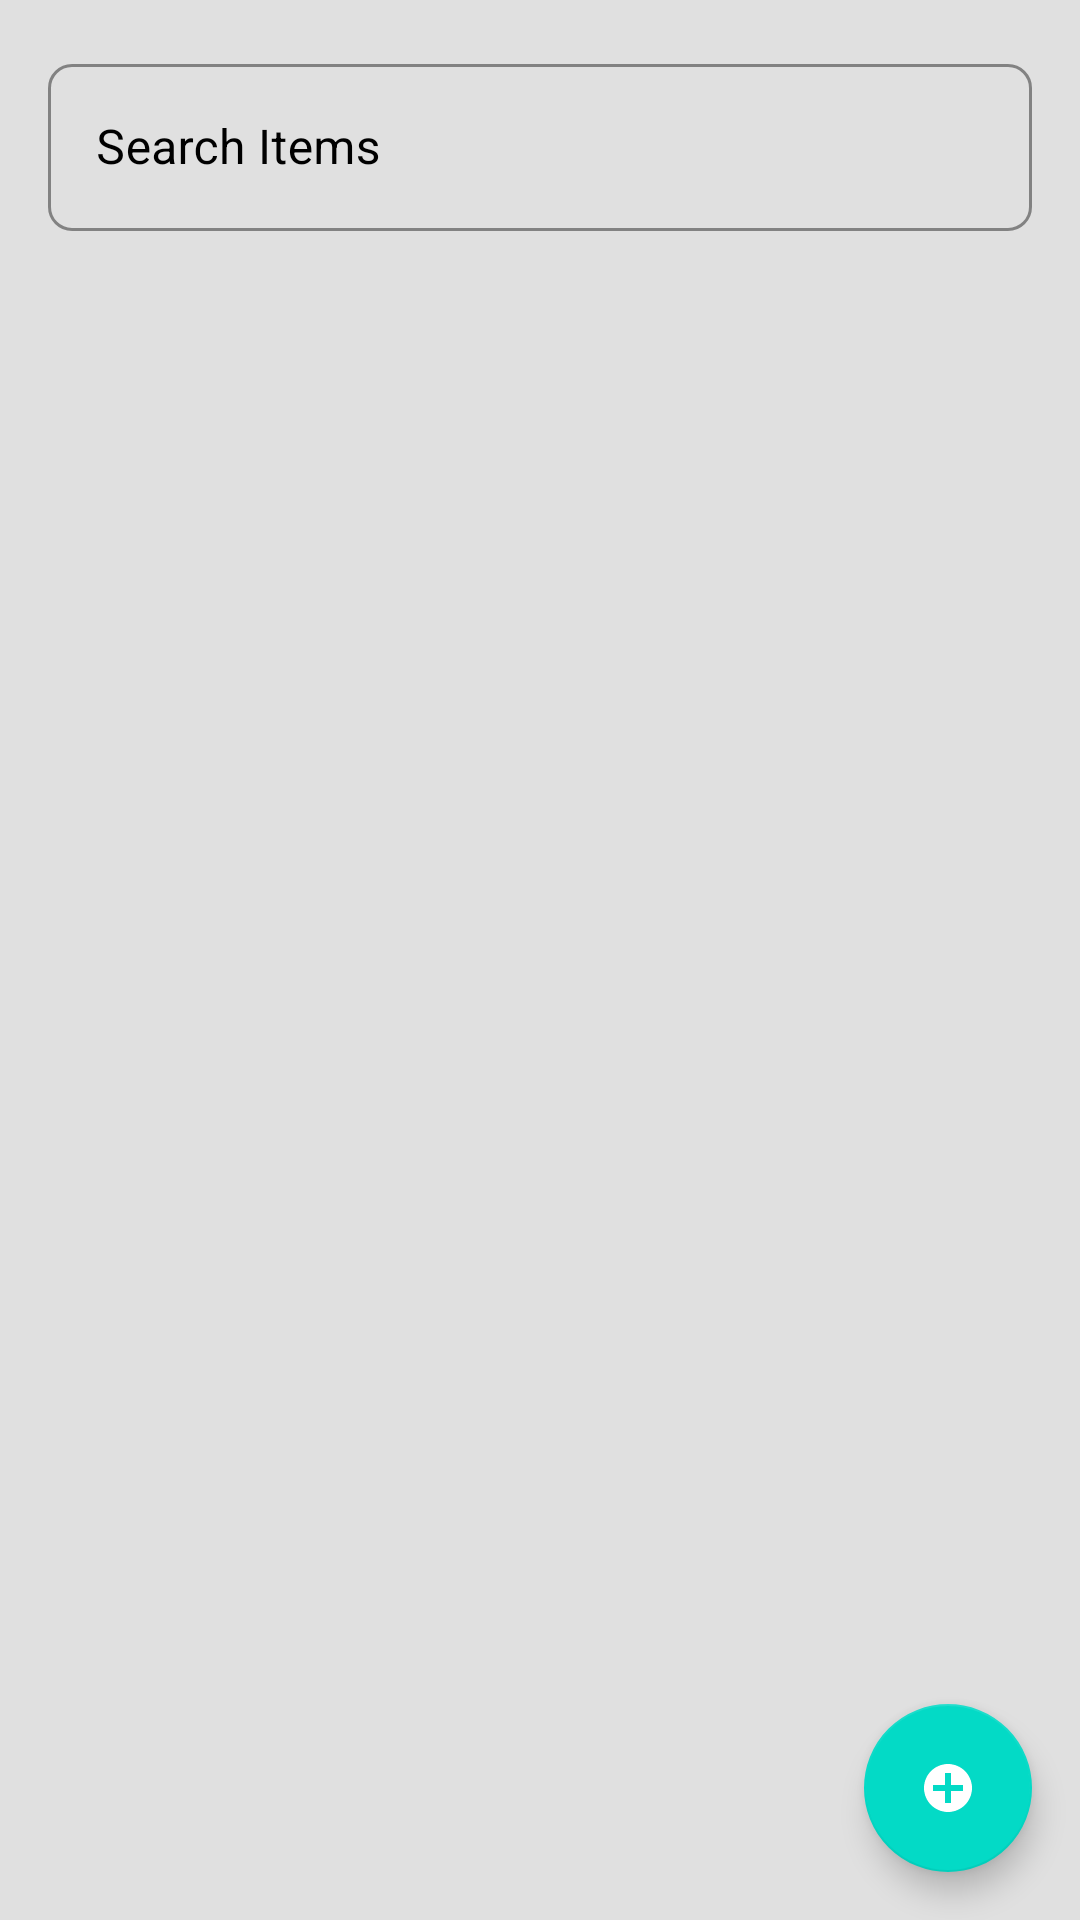

Screen size 1080x1920. Icon name, then its box in pixels as box=[x1, y1, x2, y2]:
Add Item: box=[864, 1704, 1032, 1872]
